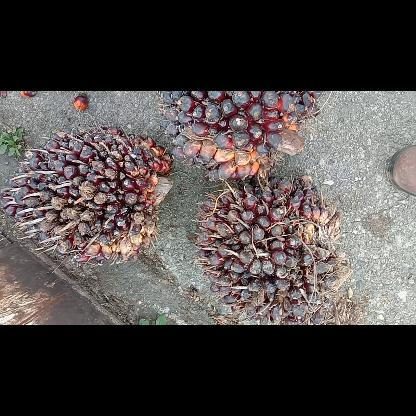TBS mentah: (0, 127, 172, 264), (194, 174, 350, 324), (161, 91, 321, 179)
